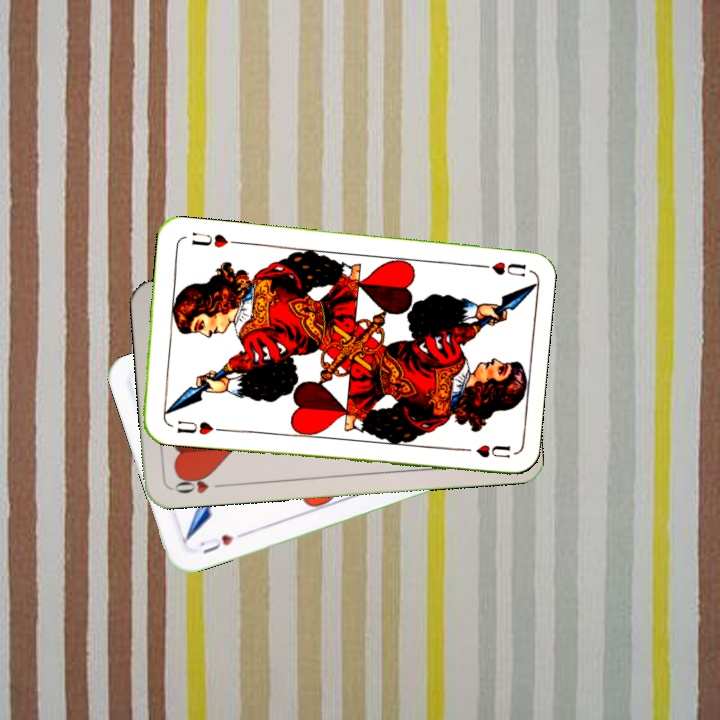HO: (169, 470, 228, 496)
HU: (471, 257, 529, 280), (195, 530, 236, 557), (173, 416, 216, 438)
